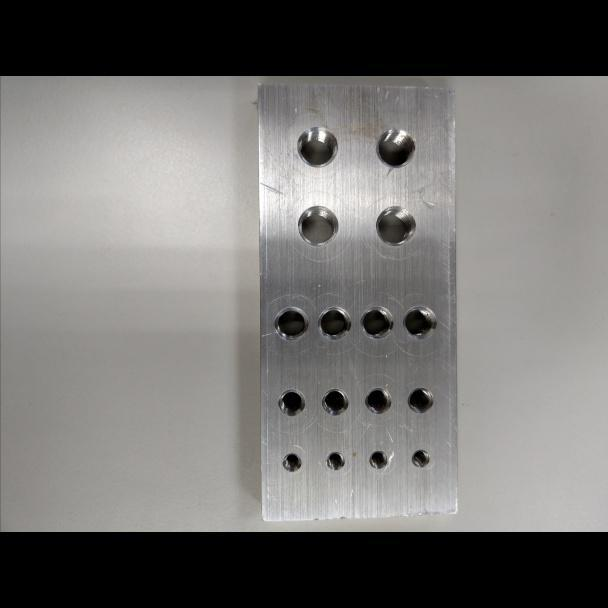hole: (295, 125, 338, 169), (296, 205, 339, 248), (374, 205, 416, 247), (374, 128, 416, 169), (401, 304, 438, 341), (316, 305, 352, 342), (272, 305, 309, 341), (359, 304, 394, 340), (320, 387, 349, 417), (277, 388, 305, 418), (405, 386, 434, 414), (364, 387, 392, 416), (281, 452, 302, 473), (368, 449, 388, 470), (324, 451, 345, 471), (410, 449, 430, 468)
